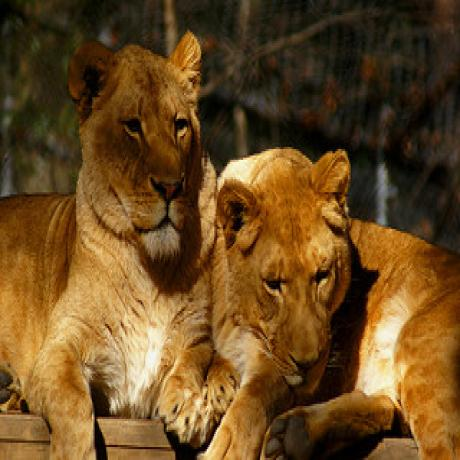Lion: (0, 29, 219, 460), (208, 149, 460, 460)
